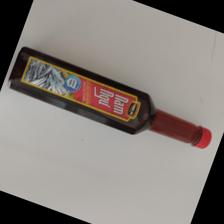Namngu: (5, 48, 214, 151)
